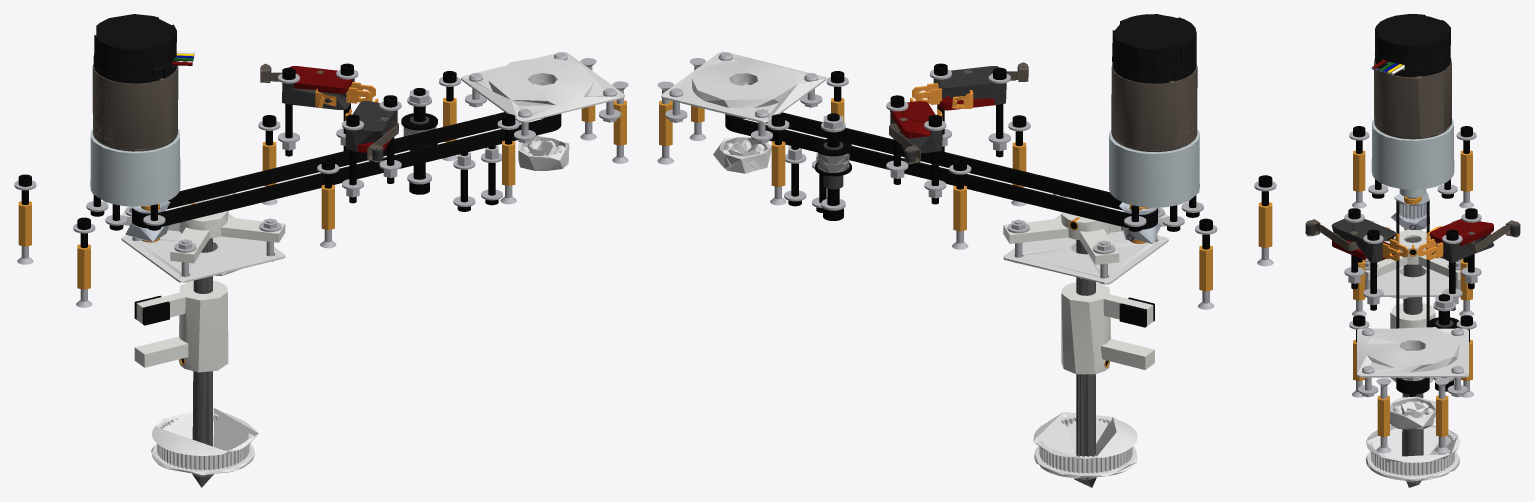
3 views of the same model, side by side, from view 1: azimuth 30°, elevation 25°; view 2: azimuth 150°, elevation 25°; view 3: azimuth 270°, elevation 25° (orthographic). The views are drawn at different scales.
Visible parts, largest first — view 1: n0, n30, n4, n1, n15, n12, n23, n13, n3, n5, n8, n2 (+4 smaller); view 2: n0, n30, n4, n1, n15, n12, n13, n23, n3, n5, n8, n2 (+3 smaller); view 3: n0, n1, n15, n23, n13, n3, n5, n12, n4, n8, n2, n30 (+4 smaller).
Part boxes in pixels (<box>): n0: <box>121,52,624,282</box>; n30: <box>132,112,561,228</box>; n4: <box>122,192,285,372</box>; n1: <box>14,52,628,307</box>; n15: <box>92,61,178,151</box>; n12: <box>18,63,515,248</box>; n23: <box>90,129,180,206</box>; n13: <box>93,14,176,83</box>; n3: <box>151,408,258,475</box>; n5: <box>18,97,626,365</box>; n8: <box>260,67,397,160</box>; n2: <box>192,238,213,487</box>; n0: <box>661,51,1168,284</box>; n30: <box>725,112,1157,229</box>; n4: <box>1003,193,1167,374</box>; n1: <box>657,52,1276,309</box>; n15: <box>1111,63,1197,152</box>; n12: <box>771,63,1272,249</box>; n13: <box>1112,14,1196,83</box>; n23: <box>1109,130,1199,207</box>; n3: <box>1033,412,1137,478</box>; n5: <box>659,98,1272,367</box>; n8: <box>890,66,1028,162</box>; n2: <box>1074,239,1096,487</box>; n0: <box>1357,266,1468,429</box>; n1: <box>1344,131,1481,453</box>; n15: <box>1374,58,1451,139</box>; n23: <box>1371,119,1454,197</box>; n13: <box>1375,14,1450,77</box>; n3: <box>1365,425,1459,481</box>; n5: <box>1353,150,1472,436</box>; n12: <box>1348,126,1477,396</box>; n4: <box>1365,229,1460,382</box>; n8: <box>1305,219,1520,262</box>; n2: <box>1402,237,1423,487</box>; n30: <box>1396,200,1429,394</box>.
Size of the model in its own units: 0.2669 by 0.096 by 0.2116.
